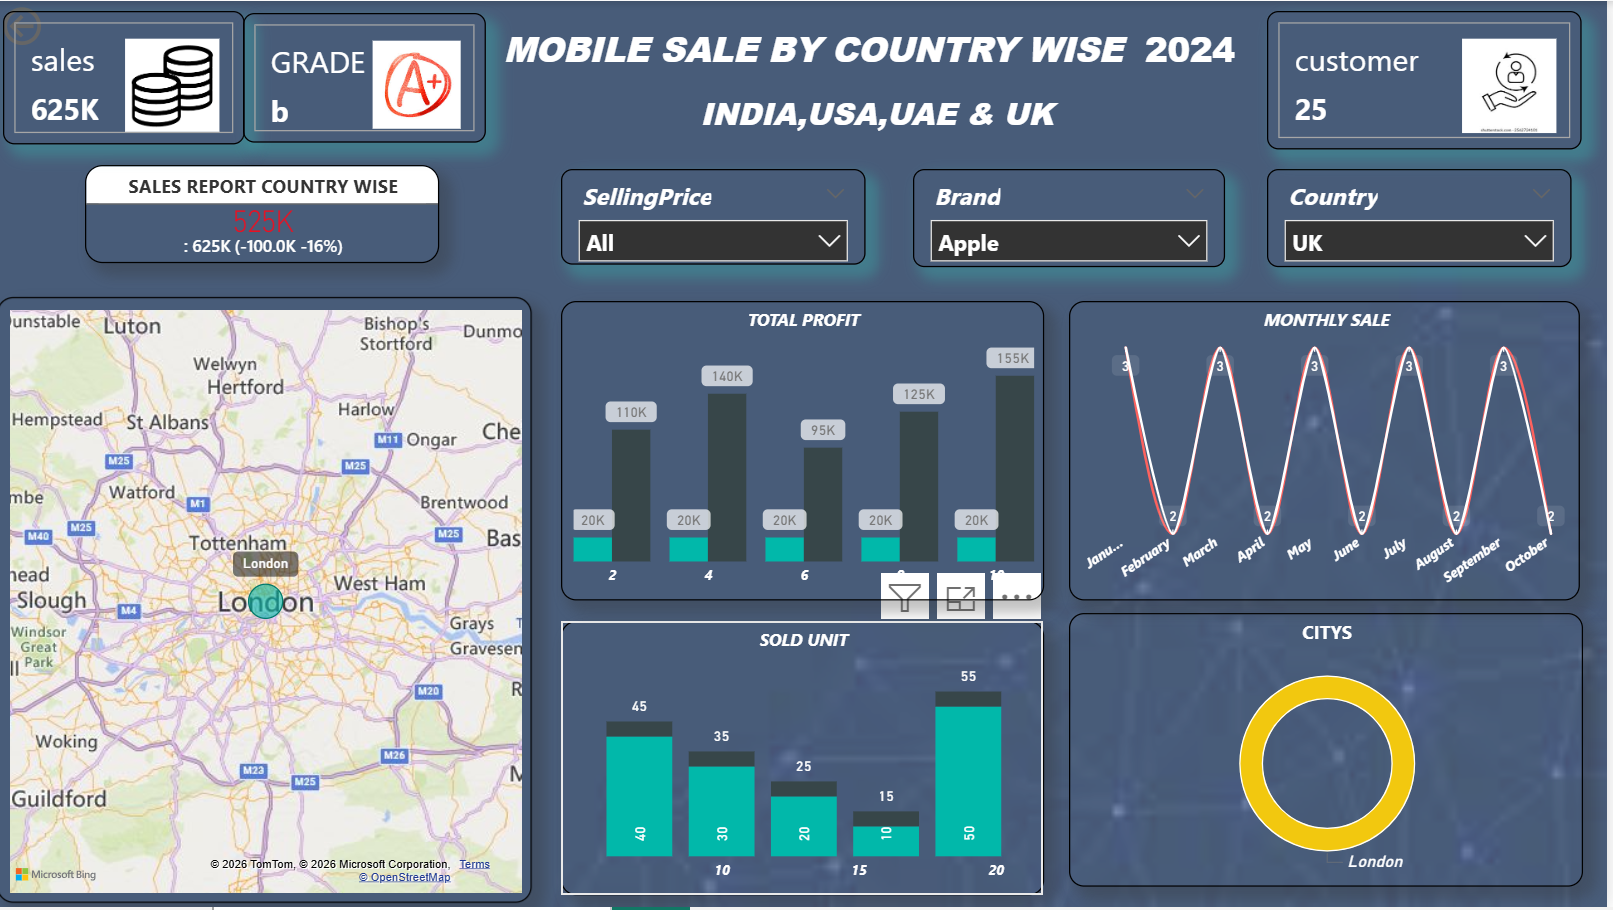

Layout of this report page (visuals, bound fields, positions):
{"tool":"powerbi","page":{"name":"mobile sales by each country","canvas":[1280,720],"ordinal":0},"visuals":[{"type":"map","fields":{"Category":["Mobile_Sales.City"],"Size":["Sum(Mobile_Sales.SellingPrice)"]},"box":[0,235,425,481.7],"z":0},{"type":"columnChart","title":"SOLD UNIT","fields":{"Category":["Mobile_Sales.Discount"],"Y":["Sum(Mobile_Sales.UnitsSold)","CountNonNull(Mobile_Sales.OneYearWarranty)"]},"box":[448,492,384,218],"z":1000},{"type":"donutChart","title":"CITYS","fields":{"Y":["Sum(Mobile_Sales.UnitsSold)"],"Category":["Mobile_Sales.City"]},"box":[851.9,486.4,408.5,217.7],"z":2000},{"type":"lineChart","title":"MONTHLY SALE","fields":{"Category":["dates.dates.Variation.Date Hierarchy.Month","dates.dates.Variation.Date Hierarchy.Day"],"Y":["CountNonNull(Mobile_Sales.Brand)"],"Y2":["Sum(Mobile_Sales.Profit)"]},"box":[852,238,406,238],"z":3000},{"type":"kpi","title":"SALES REPORT COUNTRY WISE","fields":{"Indicator":["Sum(Mobile_Sales.CostPrice)"],"TrendLine":["Mobile_Sales.Profit"],"Goal":["Sum(Mobile_Sales.SellingPrice)"]},"box":[69.9,130.3,281.3,77.9],"z":4000},{"type":"slicer","fields":{"Values":["Mobile_Sales.SellingPrice"]},"box":[448,134,242,76],"z":5000},{"type":"slicer","fields":{"Values":["Mobile_Sales.Brand"]},"box":[728,134,248,78],"z":6000},{"type":"slicer","fields":{"Values":["Mobile_Sales.Country"]},"box":[1010,134,242,78],"z":7000},{"type":"textbox","box":[371.9,14.3,642.1,52.5],"z":8000},{"type":"lineClusteredColumnComboChart","title":"TOTAL PROFIT","fields":{"Category":["Mobile_Sales.UnitsSold","Mobile_Sales.Country"],"Y":["Sum(Mobile_Sales.Profit)","Mobile_Sales.sumof"]},"box":[448,238,384,238],"z":9000},{"type":"textbox","box":[424,66,550,44],"z":10000},{"type":"actionButton","box":[0,0,100,40],"z":11000},{"type":"cardVisual","fields":{"Data":["Mobile_Sales.countasell"]},"box":[1010,8,250,110],"z":12000},{"type":"cardVisual","fields":{"Data":["Mobile_Sales.sumof"]},"box":[4,8,192,106],"z":13000},{"type":"cardVisual","fields":{"Data":["Mobile_Sales.grade"]},"box":[196,10,193,103],"z":14000}]}

Visuals, with their boxes in screenshot pixels (x1, y1, x2, y2), scaled from the page's 1280x720 canvas onto the 1613x910 screenshot:
map - Mobile_Sales.City x Sum(Mobile_Sales.SellingPrice): bbox=[0, 297, 536, 906]
"SOLD UNIT" columnChart: bbox=[565, 622, 1048, 897]
"CITYS" donutChart: bbox=[1074, 615, 1588, 890]
"MONTHLY SALE" lineChart: bbox=[1074, 301, 1585, 602]
"SALES REPORT COUNTRY WISE" kpi: bbox=[88, 165, 443, 263]
slicer - Mobile_Sales.SellingPrice: bbox=[565, 169, 870, 265]
slicer - Mobile_Sales.Brand: bbox=[917, 169, 1230, 268]
slicer - Mobile_Sales.Country: bbox=[1273, 169, 1578, 268]
textbox: bbox=[469, 18, 1278, 84]
"TOTAL PROFIT" lineClusteredColumnComboChart: bbox=[565, 301, 1048, 602]
textbox: bbox=[534, 83, 1227, 139]
actionButton: bbox=[0, 0, 126, 51]
cardVisual - Mobile_Sales.countasell: bbox=[1273, 10, 1588, 149]
cardVisual - Mobile_Sales.sumof: bbox=[5, 10, 247, 144]
cardVisual - Mobile_Sales.grade: bbox=[247, 13, 490, 143]
